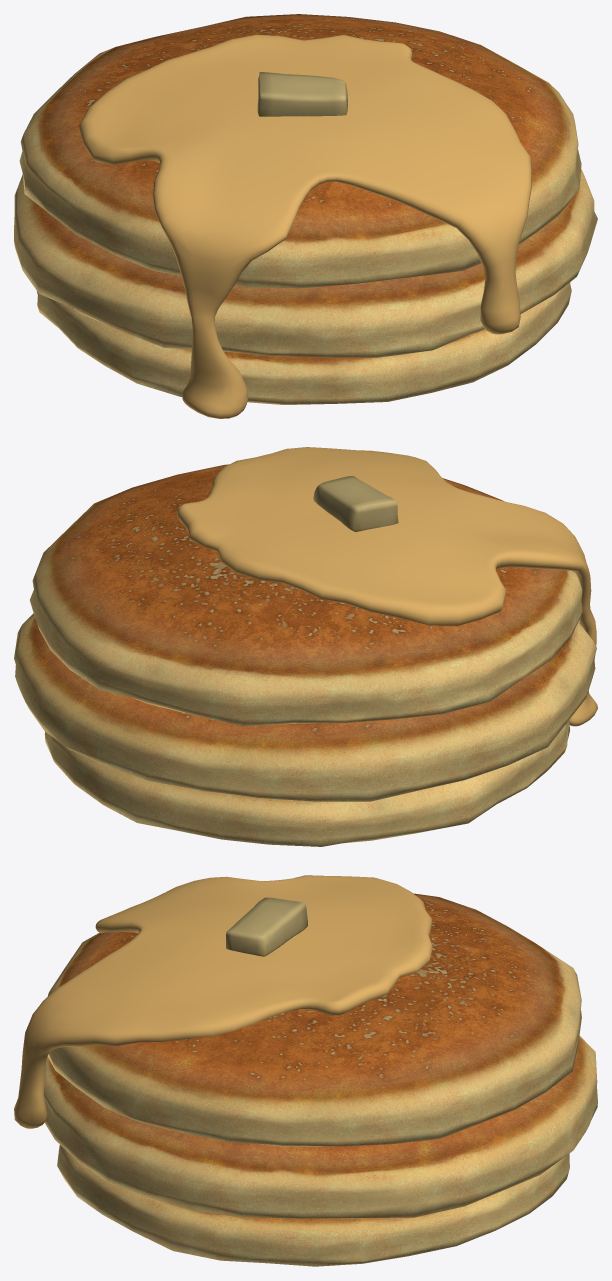
File: pancake.glb
The picture shows the model from 3 angles, top to bottom: view 1: azimuth 30°, elevation 25°; view 2: azimuth 150°, elevation 25°; view 3: azimuth 270°, elevation 25°; orthographic projection. The views are drawn at different scales.
Parts seen in each view (by area): view 1: Group8824, Pancake_low.003, Pancake_low.002, Pancake_low.001, Butter_low.001; view 2: Pancake_low.003, Group8824, Pancake_low.002, Pancake_low.001, Butter_low.001; view 3: Pancake_low.003, Group8824, Pancake_low.002, Pancake_low.001, Butter_low.001.
Part boxes in pixels (bbox=[...]): Group8824: bbox=[78, 34, 531, 418]; Pancake_low.003: bbox=[19, 14, 581, 288]; Pancake_low.002: bbox=[14, 169, 597, 357]; Pancake_low.001: bbox=[37, 282, 571, 404]; Butter_low.001: bbox=[257, 72, 347, 116]; Pancake_low.003: bbox=[30, 464, 582, 726]; Group8824: bbox=[176, 447, 597, 726]; Pancake_low.002: bbox=[14, 613, 596, 801]; Pancake_low.001: bbox=[44, 720, 570, 846]; Butter_low.001: bbox=[313, 476, 398, 531]; Pancake_low.003: bbox=[47, 893, 581, 1146]; Group8824: bbox=[14, 875, 432, 1128]; Pancake_low.002: bbox=[44, 1035, 597, 1218]; Pancake_low.001: bbox=[57, 1144, 569, 1266]; Butter_low.001: bbox=[226, 897, 307, 956].
Size of the model in its own units: 137 by 64.38 by 142.
2 materials, 1 textured.
